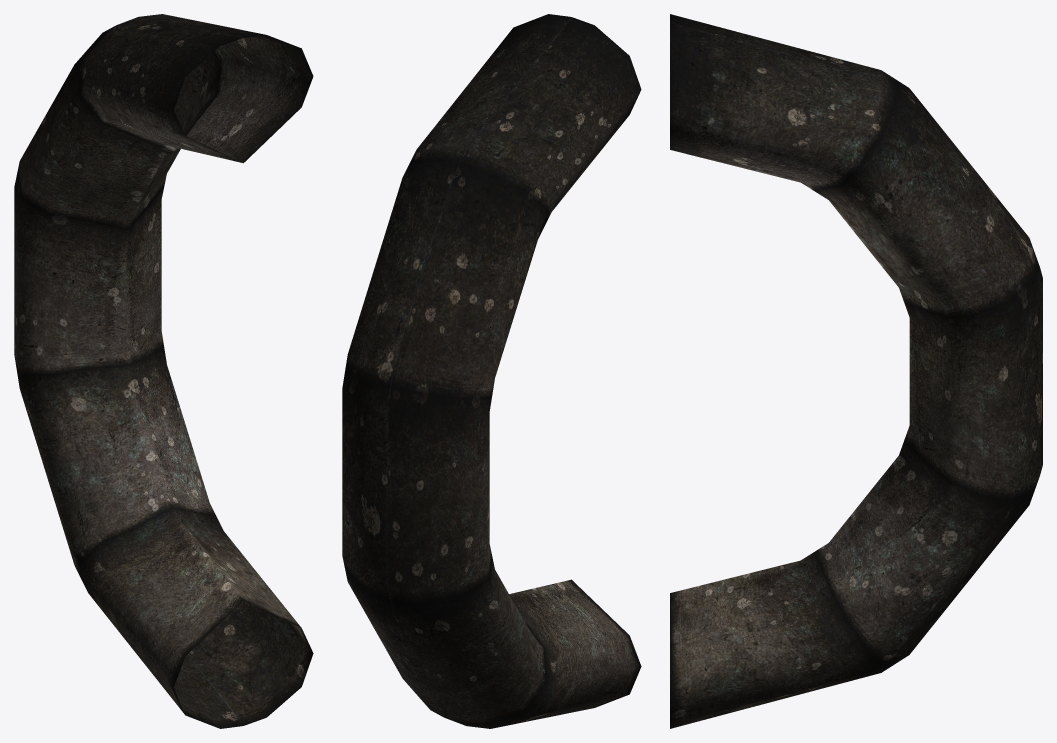
The model's file is large_180_up.dae.
The picture shows the model from 3 angles, left to right: view 1: azimuth 30°, elevation 25°; view 2: azimuth 150°, elevation 25°; view 3: azimuth 270°, elevation 25°; orthographic projection.
Visible parts, largest first — view 1: tentacle_large_180_up; view 2: tentacle_large_180_up; view 3: tentacle_large_180_up.
Part boxes in pixels (<box>): tentacle_large_180_up: <box>14,14,313,728</box>; tentacle_large_180_up: <box>342,14,641,728</box>; tentacle_large_180_up: <box>670,14,1042,728</box>.
Size of the model in its own units: 0.52 by 2.45 by 1.19.
